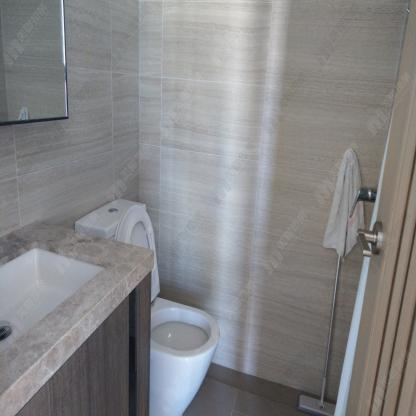Toilet: (74, 197, 220, 416)
Toilet Sink: (0, 218, 154, 416)
